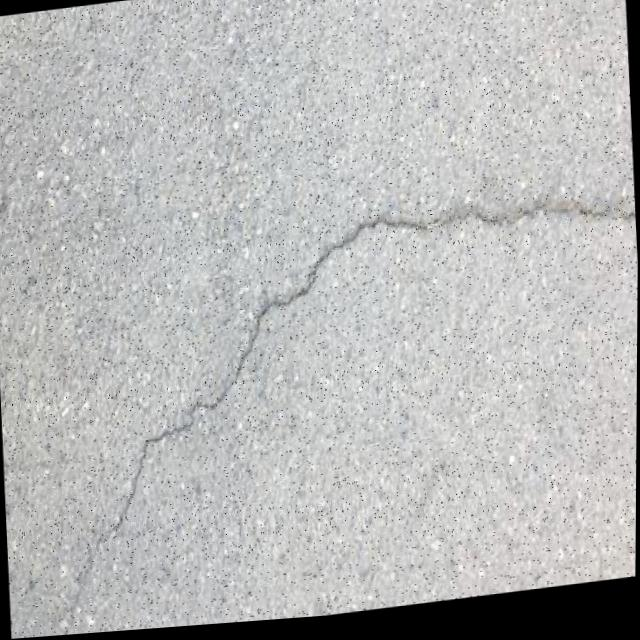Crack: (38, 178, 639, 638)
